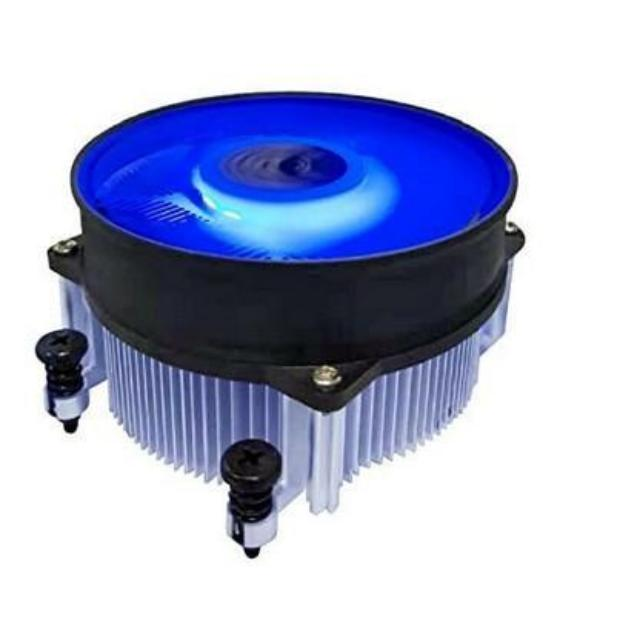CPU_Fan: (44, 83, 526, 549)
